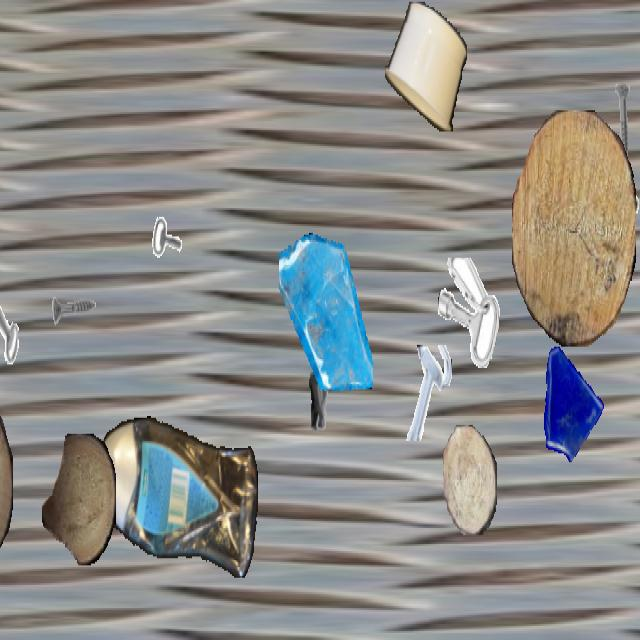glass: (279, 231, 373, 398), (534, 336, 604, 460)
metal: (438, 258, 500, 368), (587, 176, 640, 286), (400, 345, 454, 441), (294, 359, 344, 448), (0, 270, 45, 366), (50, 270, 96, 352), (599, 80, 640, 165), (152, 192, 192, 263)
plastic: (97, 414, 257, 585), (385, 2, 467, 130)
wood: (512, 110, 636, 345), (42, 434, 116, 565), (443, 425, 497, 535), (0, 391, 13, 573)
